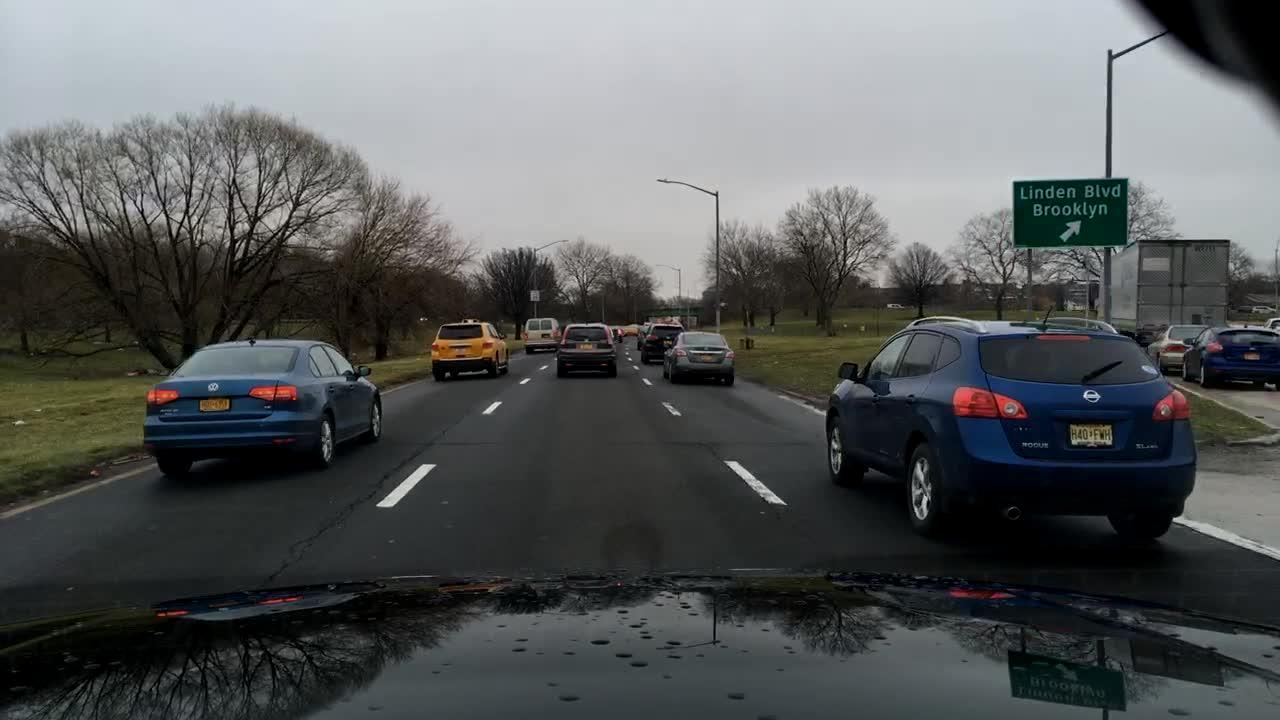Nissan: (1074, 383, 1109, 409)
Volkswagen: (203, 379, 224, 397)
